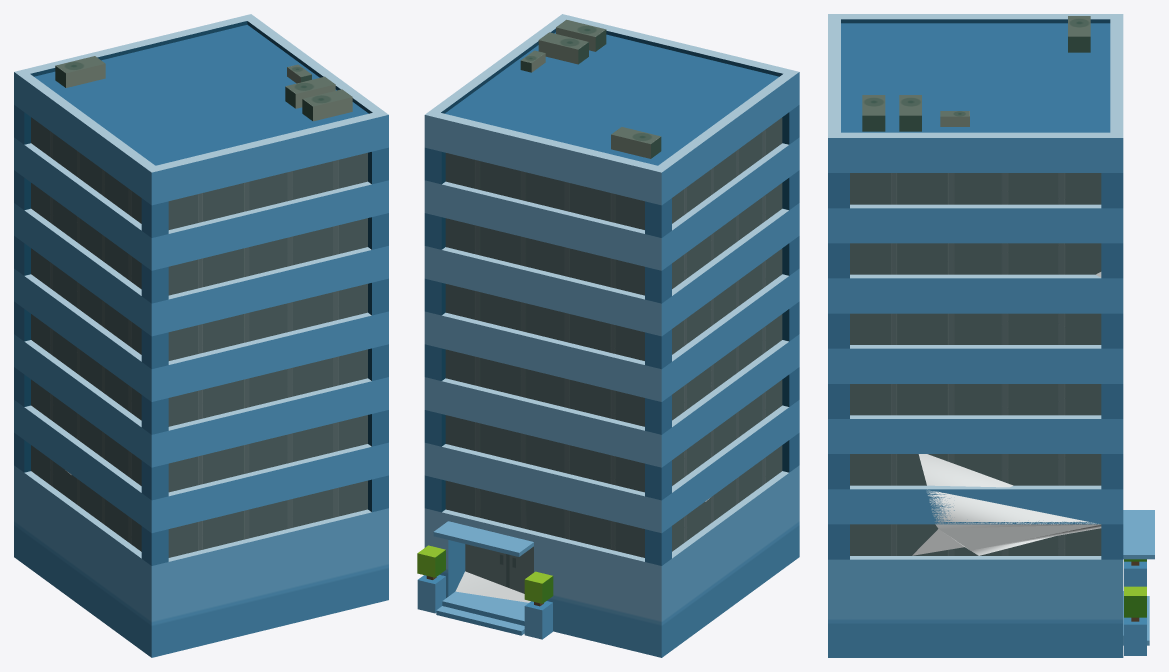
Rendered from house_04.FBX.
3 renders of one model, left to right at view 1: azimuth 30°, elevation 25°; view 2: azimuth 150°, elevation 25°; view 3: azimuth 270°, elevation 25°, orthographic. The views are drawn at different scales.
Parts seen in each view (by area): view 1: office_large_mesh1_Part_2, office_large_mesh1_Part_3, office_large_mesh1_Part_1, office_large_mesh1_Part_6, office_large_mesh1_Part_4; view 2: office_large_mesh1_Part_6, office_large_mesh1_Part_2, office_large_mesh1_Part_4, office_large_mesh1_Part_3, office_large_mesh1_Part_5; view 3: office_large_mesh1_Part_2, office_large_mesh1_Part_4, office_large_mesh1_Part_5, office_large_mesh1_Part_1, office_large_mesh1_Part_6.
Boxes of the visible parts, bbox=[...] form: office_large_mesh1_Part_2: bbox=[14, 14, 388, 327]; office_large_mesh1_Part_3: bbox=[48, 322, 259, 657]; office_large_mesh1_Part_1: bbox=[243, 323, 388, 631]; office_large_mesh1_Part_6: bbox=[14, 75, 150, 368]; office_large_mesh1_Part_4: bbox=[14, 364, 88, 572]; office_large_mesh1_Part_6: bbox=[424, 175, 798, 464]; office_large_mesh1_Part_2: bbox=[424, 14, 799, 234]; office_large_mesh1_Part_4: bbox=[417, 371, 725, 657]; office_large_mesh1_Part_3: bbox=[696, 221, 799, 626]; office_large_mesh1_Part_5: bbox=[455, 571, 703, 641]; office_large_mesh1_Part_2: bbox=[828, 14, 1123, 380]; office_large_mesh1_Part_4: bbox=[897, 380, 1154, 655]; office_large_mesh1_Part_5: bbox=[828, 529, 1126, 657]; office_large_mesh1_Part_1: bbox=[828, 361, 938, 640]; office_large_mesh1_Part_6: bbox=[912, 267, 1123, 447].
Bounding box in the file's own units: 13.62 × 27.24 × 15.17.
1 material, 1 textured.
